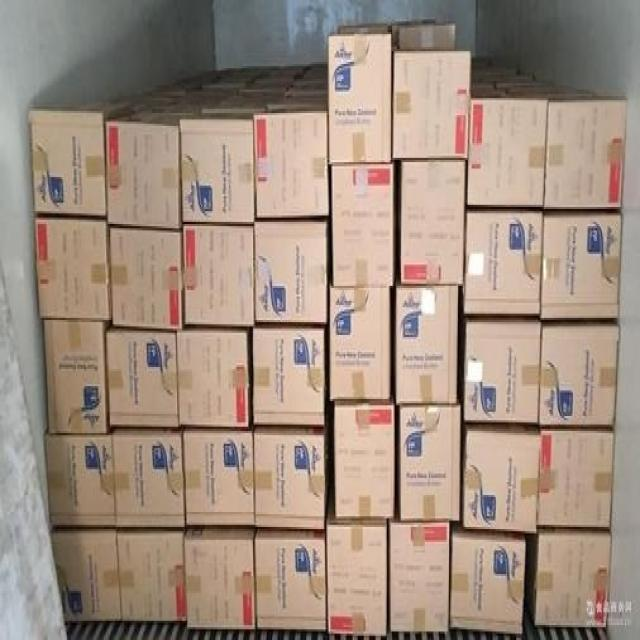box: (545, 90, 629, 211), (326, 28, 398, 164), (540, 211, 622, 324), (467, 96, 546, 211), (463, 314, 543, 425), (464, 209, 544, 320), (464, 422, 540, 535), (331, 162, 400, 286), (393, 51, 471, 160), (525, 527, 610, 627), (538, 322, 618, 427), (253, 113, 330, 222), (450, 523, 525, 634), (29, 113, 106, 218), (34, 215, 111, 320), (106, 224, 183, 329), (400, 162, 465, 286), (105, 119, 180, 226), (105, 329, 182, 433), (44, 318, 111, 437), (395, 403, 462, 521), (329, 399, 395, 518), (182, 117, 254, 226), (539, 425, 613, 531), (253, 222, 328, 324), (395, 286, 460, 403), (185, 529, 258, 631), (326, 514, 388, 634), (253, 324, 325, 427), (330, 284, 395, 397), (255, 529, 328, 629), (181, 329, 253, 429), (111, 431, 185, 527), (44, 433, 118, 529), (255, 429, 325, 529), (182, 226, 252, 326), (186, 431, 255, 531), (51, 527, 121, 625), (387, 521, 449, 629), (115, 529, 186, 621), (397, 17, 457, 53)
